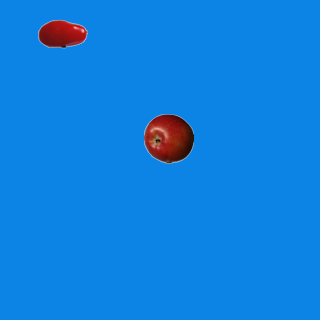Apple Braeburn: (143, 113, 193, 163)
Tomato 2: (37, 8, 87, 58)
